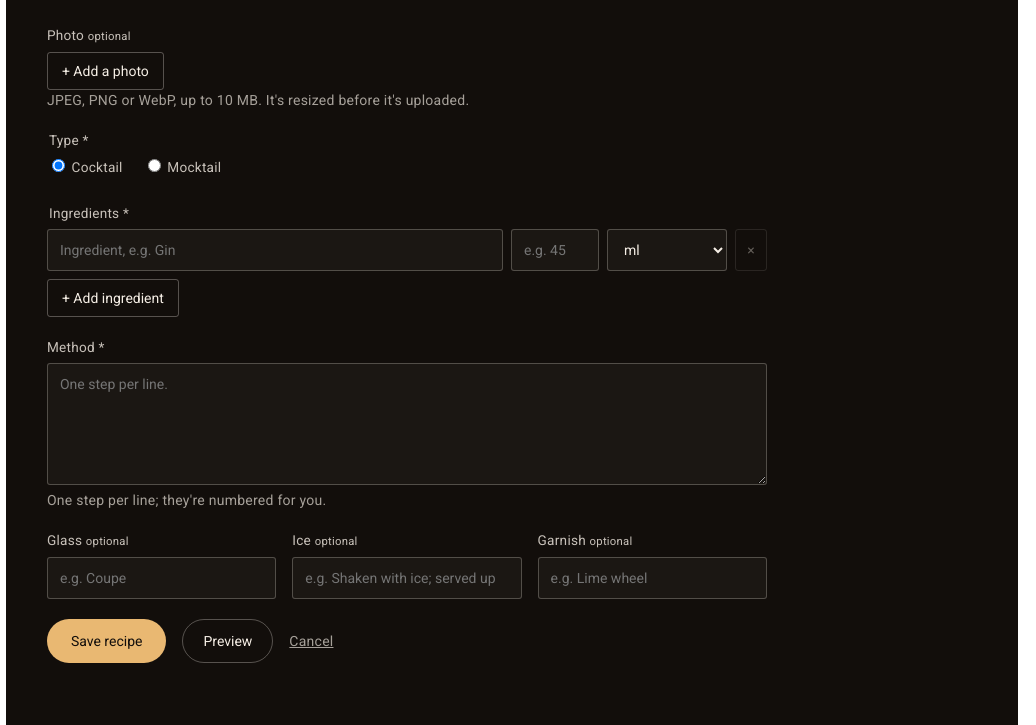
Scenario: RecipeEditorComponent › won’t save an incomplete recipe, and says what to fix
The image size is (1036, 725).
(page scrolled)
Click the submit button at (107, 641), box [47,619,166,663]
(page scrolled)
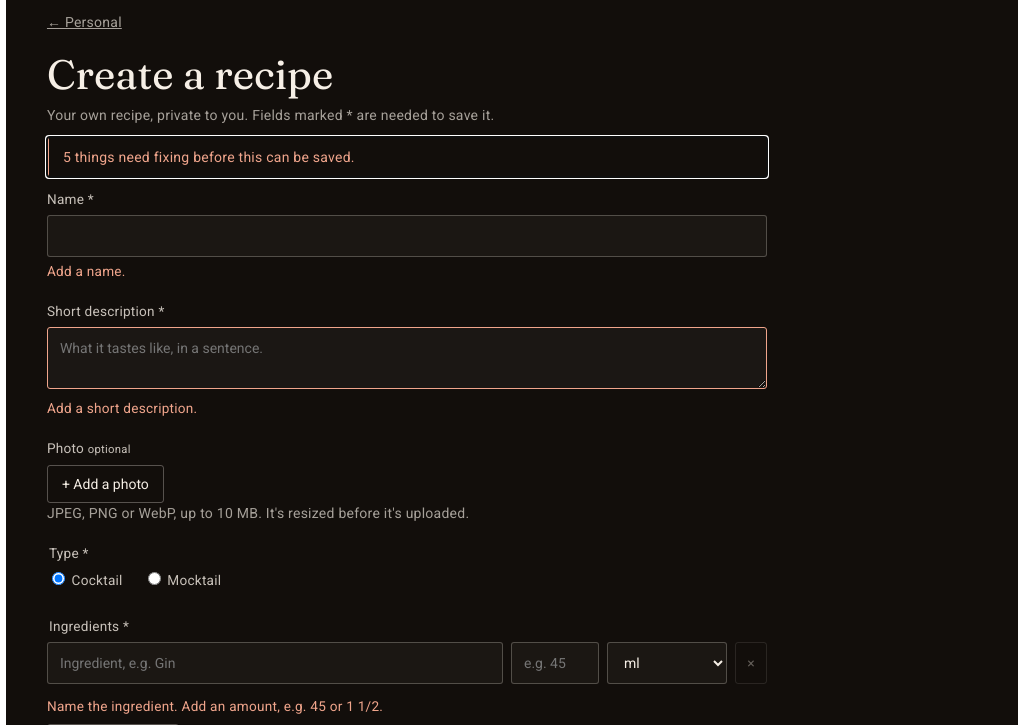
Check: the text "things need fixing before this can be saved" is shown, box [63,149,355,165]
Check: the text "Add a name." is shown, box [47,263,126,279]
Check: the text "Add a short description." is shown, box [47,400,198,416]
